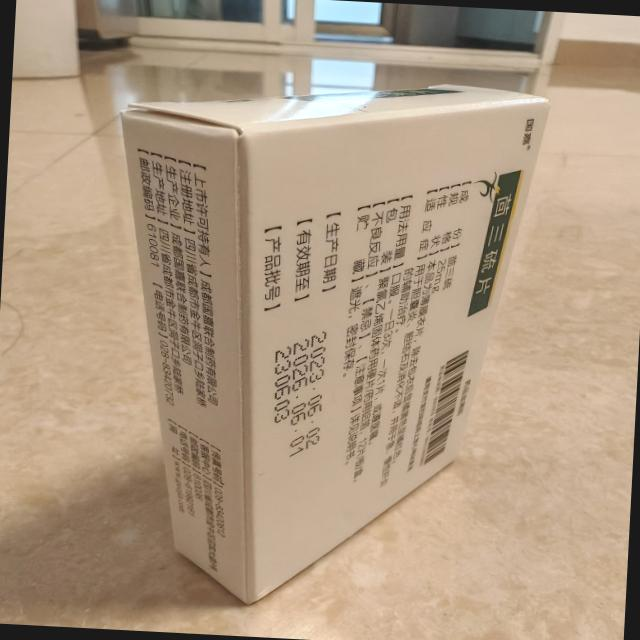box: (82, 60, 568, 629)
